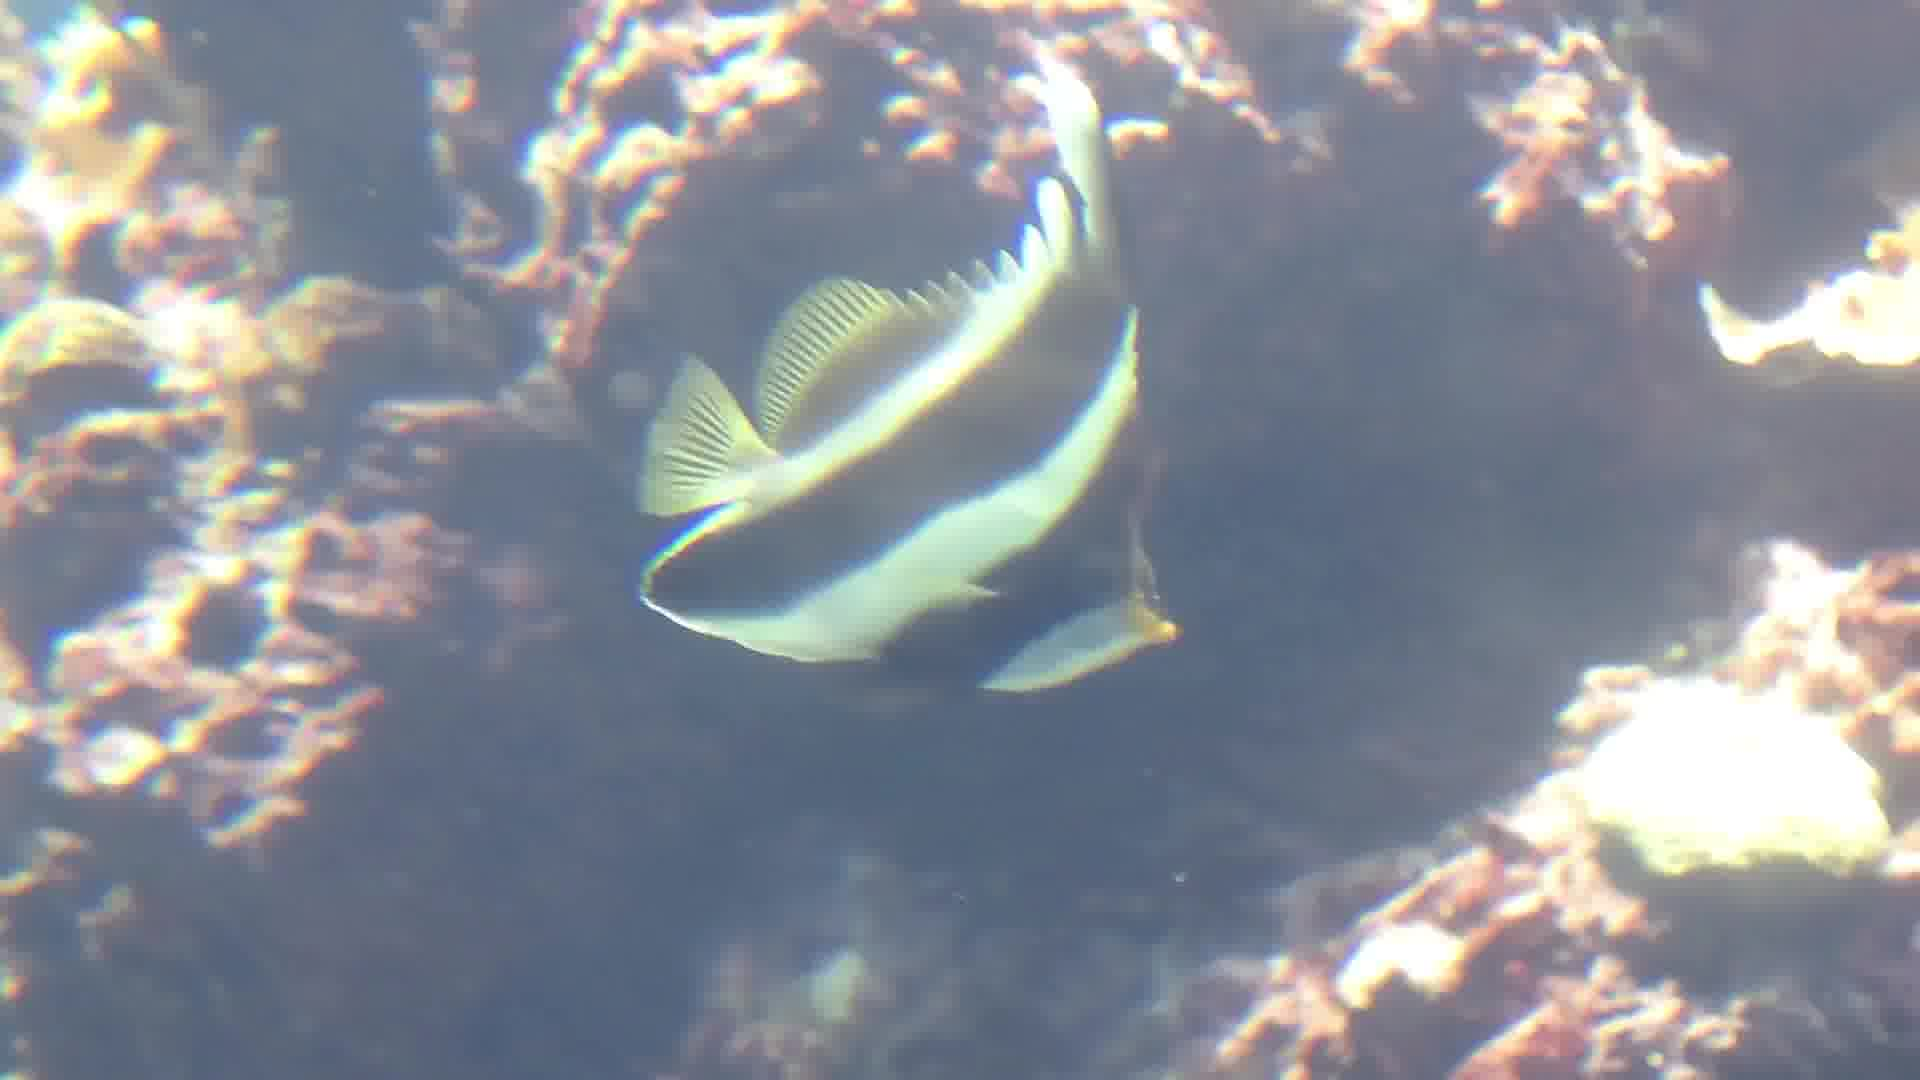Heniochus chrysostomus: (615, 45, 1192, 758)
